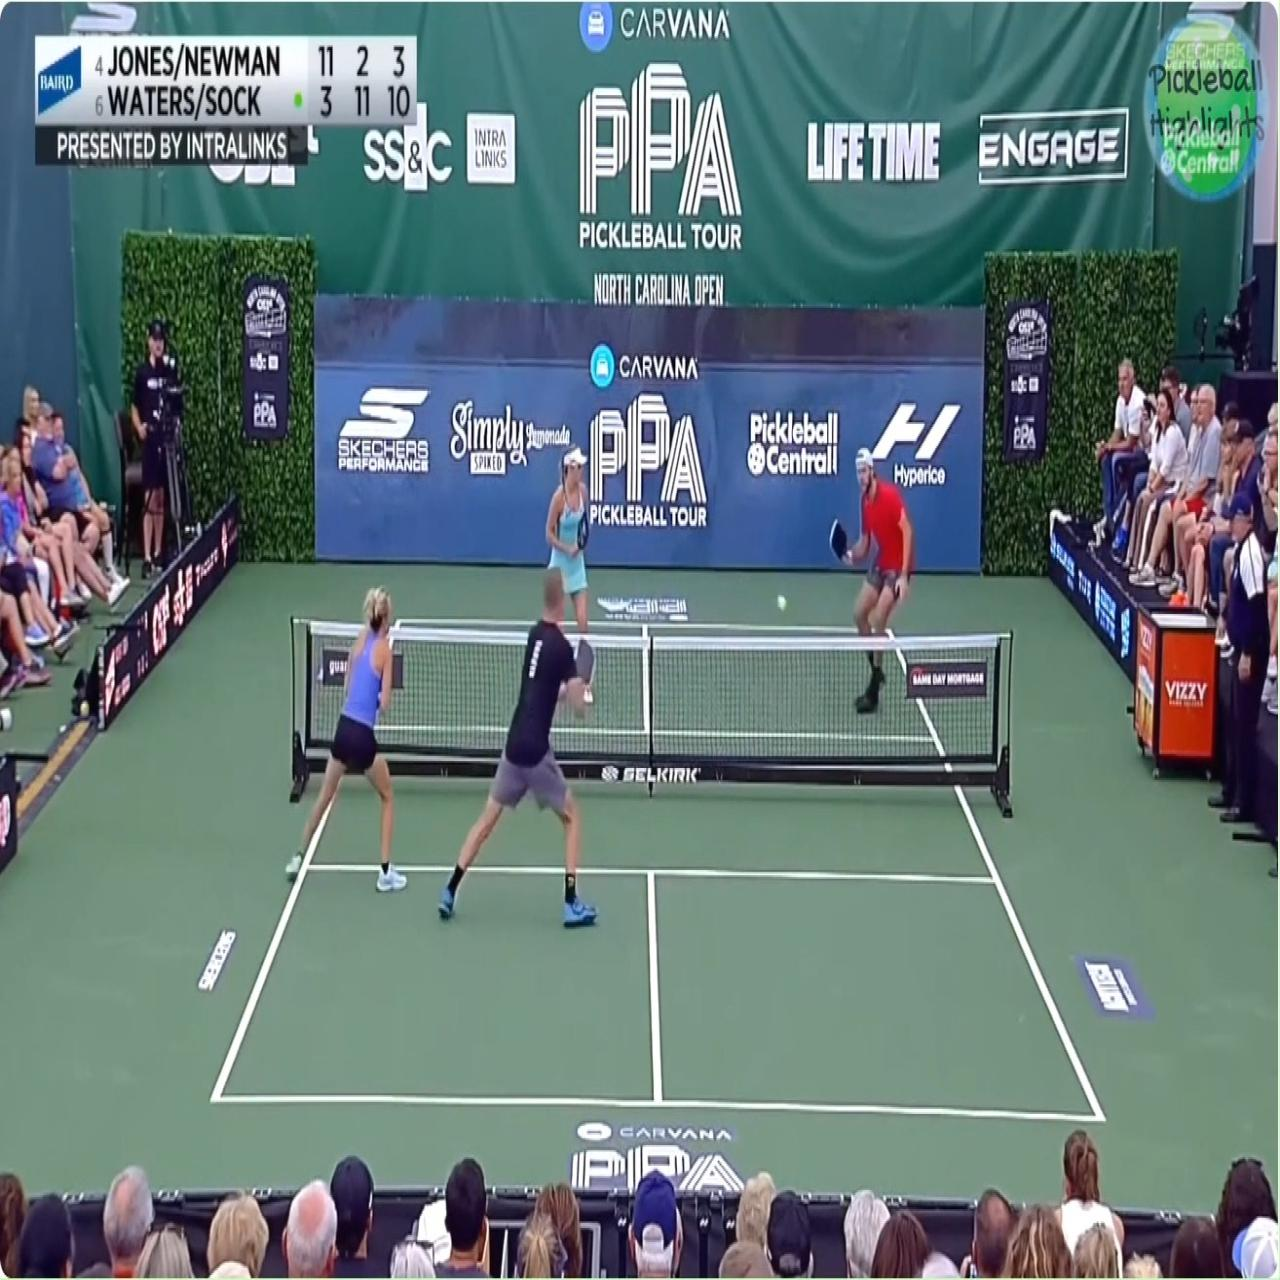pickleball: (776, 595, 787, 611)
